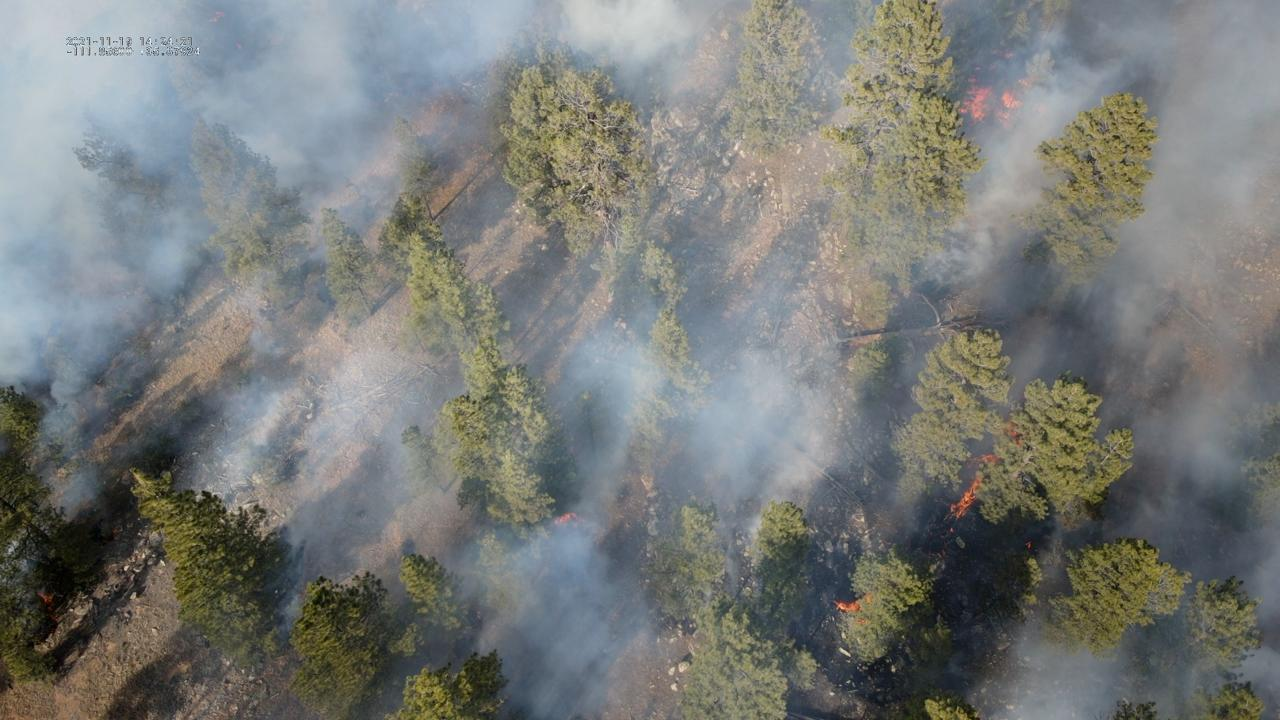fire: (958, 79, 1028, 126), (950, 476, 980, 521), (550, 510, 580, 529), (830, 599, 861, 613), (1005, 421, 1021, 447), (967, 453, 1001, 465), (37, 590, 53, 608), (1025, 541, 1031, 551), (949, 527, 955, 533), (856, 619, 865, 623)
smoke: (0, 0, 1280, 720)
